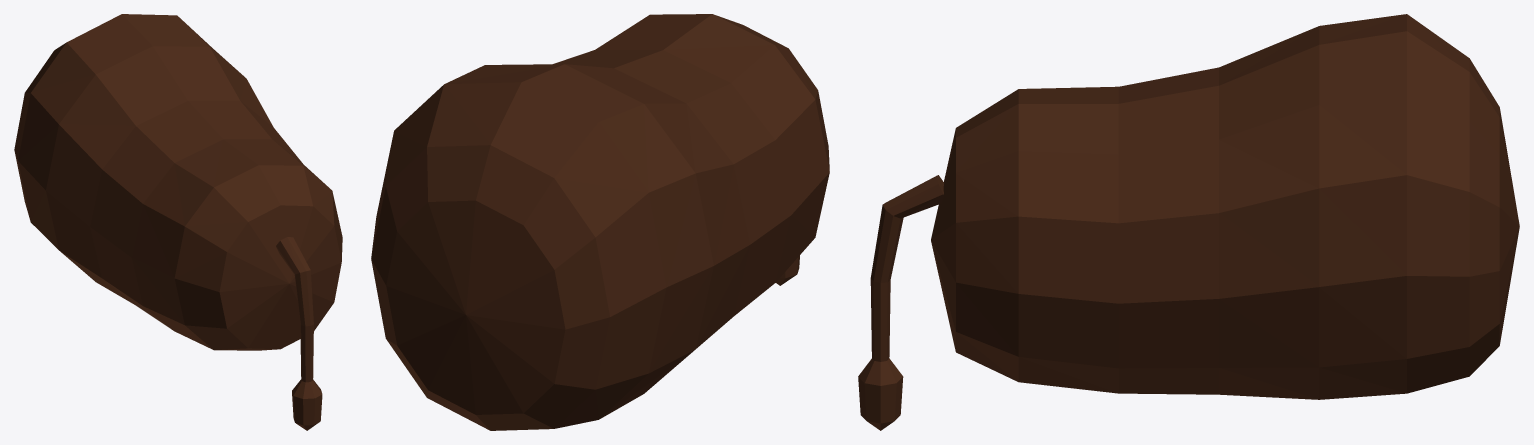
Rendered from Toro_Cuerpo.obj.
3 views of the same model, side by side, from view 1: azimuth 30°, elevation 25°; view 2: azimuth 150°, elevation 25°; view 3: azimuth 270°, elevation 25° (orthographic). The views are drawn at different scales.
Visible parts, largest first — view 1: Toro_Cuerpo; view 2: Toro_Cuerpo; view 3: Toro_Cuerpo.
Part boxes in pixels (x1=…): Toro_Cuerpo: x1=14, y1=14, x2=342, y2=430; Toro_Cuerpo: x1=371, y1=14, x2=829, y2=430; Toro_Cuerpo: x1=858, y1=14, x2=1519, y2=430.
Size of the model in its own units: 1.4 by 1.76 by 2.64.
